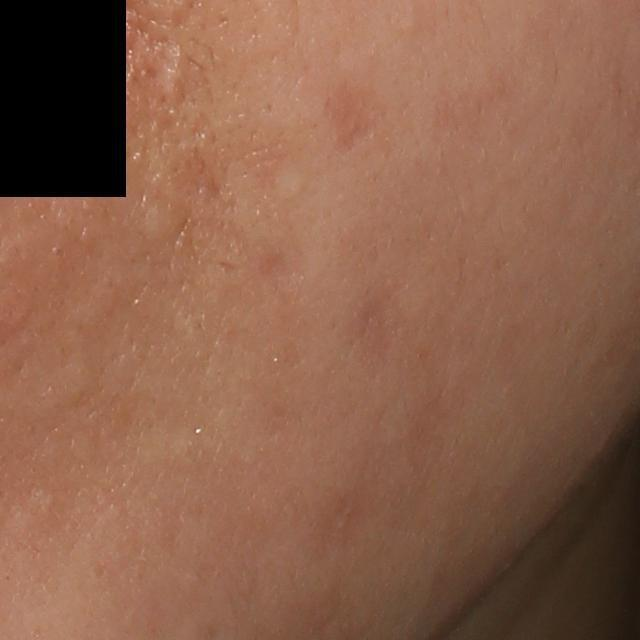atrophic_scar: (328, 84, 381, 157)
hypertrophic_scar: (133, 199, 197, 249), (162, 41, 188, 103)
